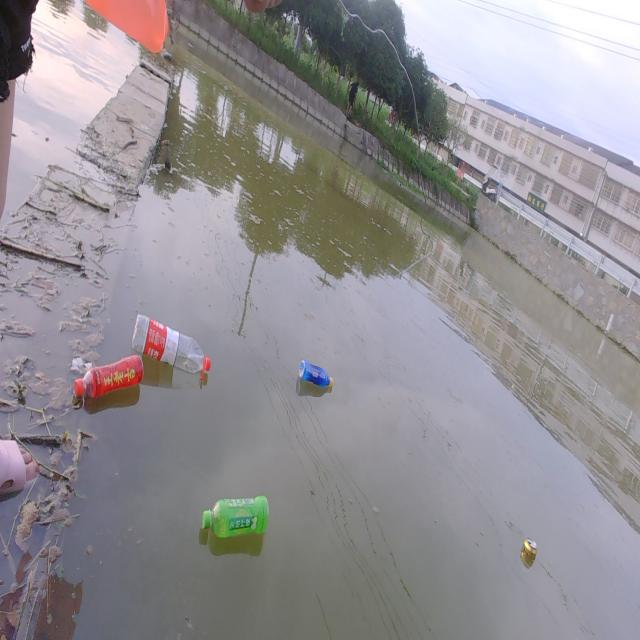Bottle: (129, 306, 218, 381), (197, 488, 271, 550), (71, 350, 145, 400), (296, 354, 337, 399)
Can: (515, 529, 538, 564)
